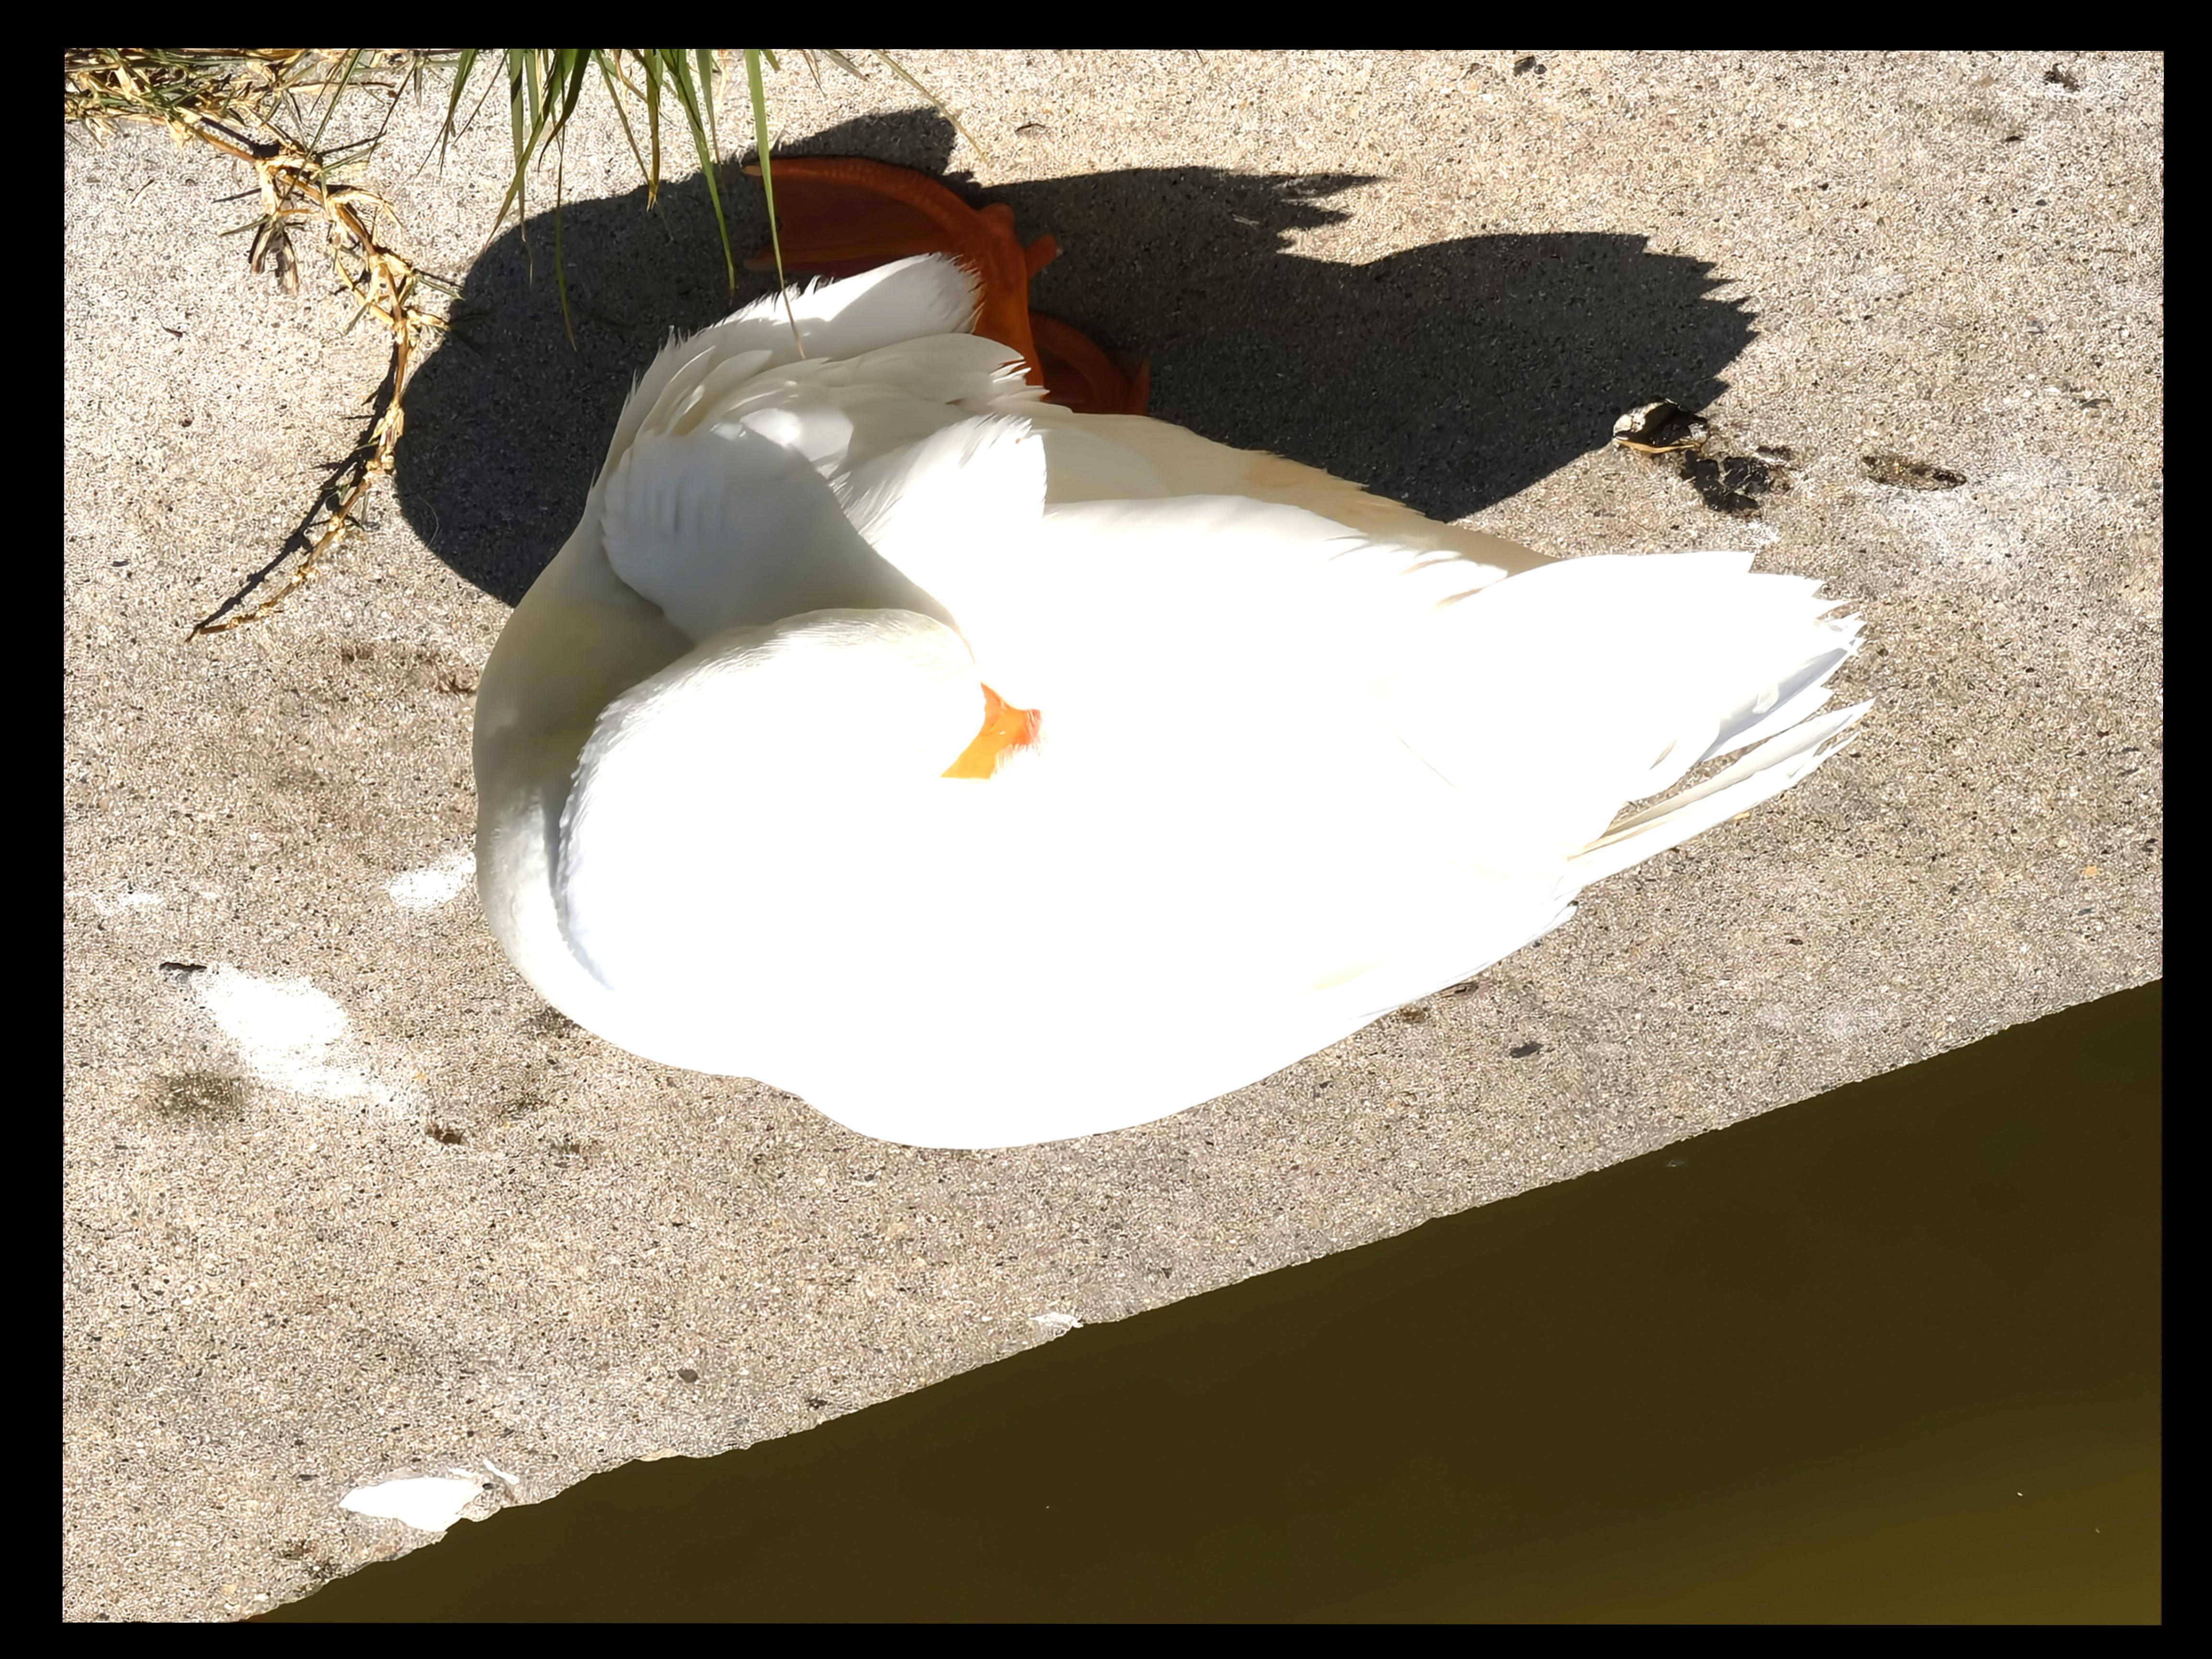duck: (427, 173, 1905, 1188)
